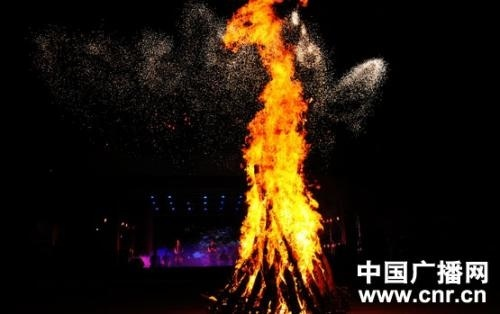fire: (216, 0, 333, 279)
